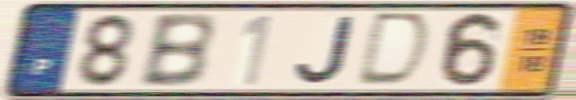1: (240, 14, 274, 87)
6: (438, 9, 505, 91)
8: (75, 12, 140, 90)
B: (136, 11, 218, 90)
D: (351, 10, 434, 91)
J: (292, 14, 358, 87)
